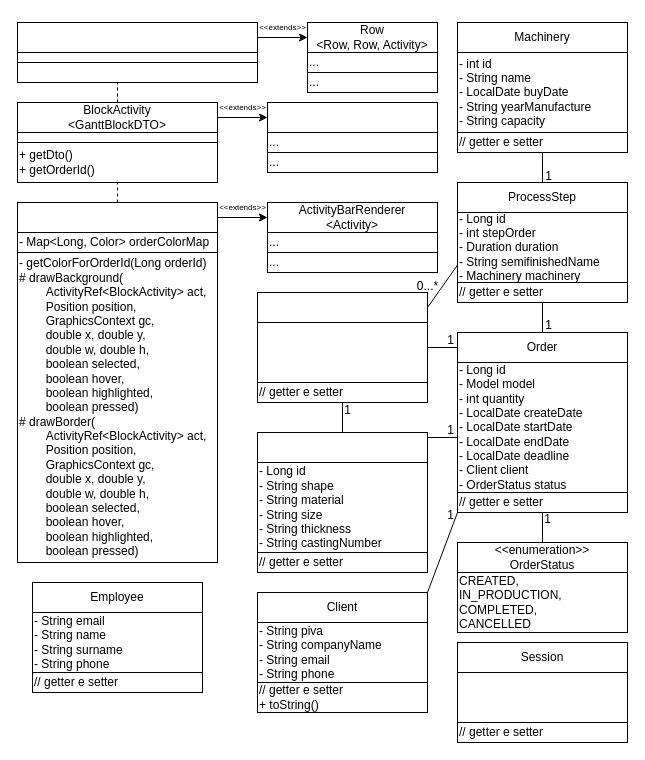
Some shapes in this 645 by 760 pixel diagram are drawn without their labels. Here are the shapes that lost their labels. From the top down, the centre of each, then its label:
[137,37]: MachineRow <MachineRow, MachineRow, BlockActivity>
[137,72]: // costruttore
[352,117]: MutableActivityBase <Data>
[117,217]: ColoredActivityRender <BlockActivity>
[342,307]: Model
[342,352]: - String name - double price - Raw raw - List<ProcessStep> steps
[342,447]: Raw
[542,697]: - Session istance - ProfileDTO currentUser - String token
